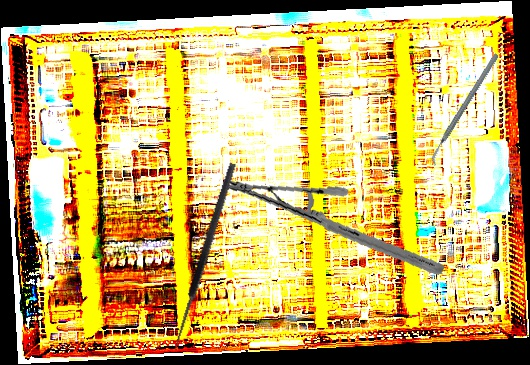Chopper: (400, 52, 530, 168)
Hook Surgical: (170, 162, 246, 355)
Needle Holder: (221, 153, 446, 300)
